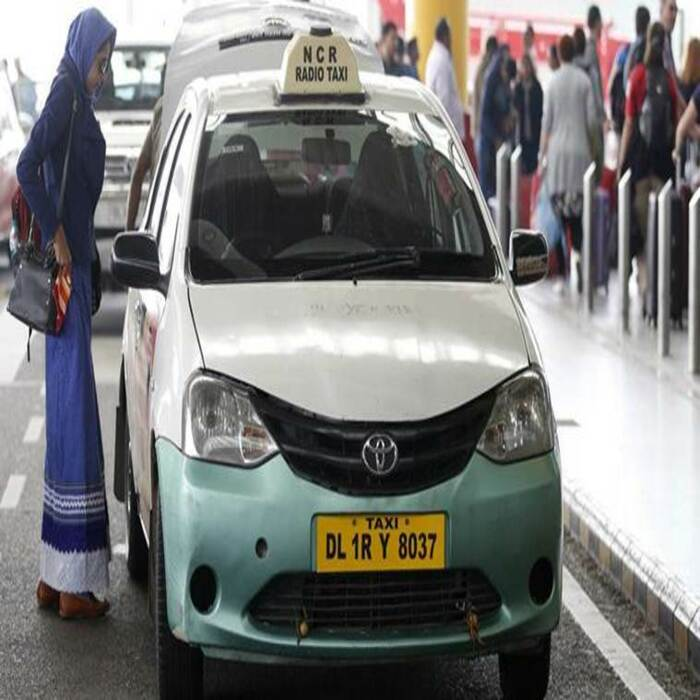n: (310, 512, 453, 573)
